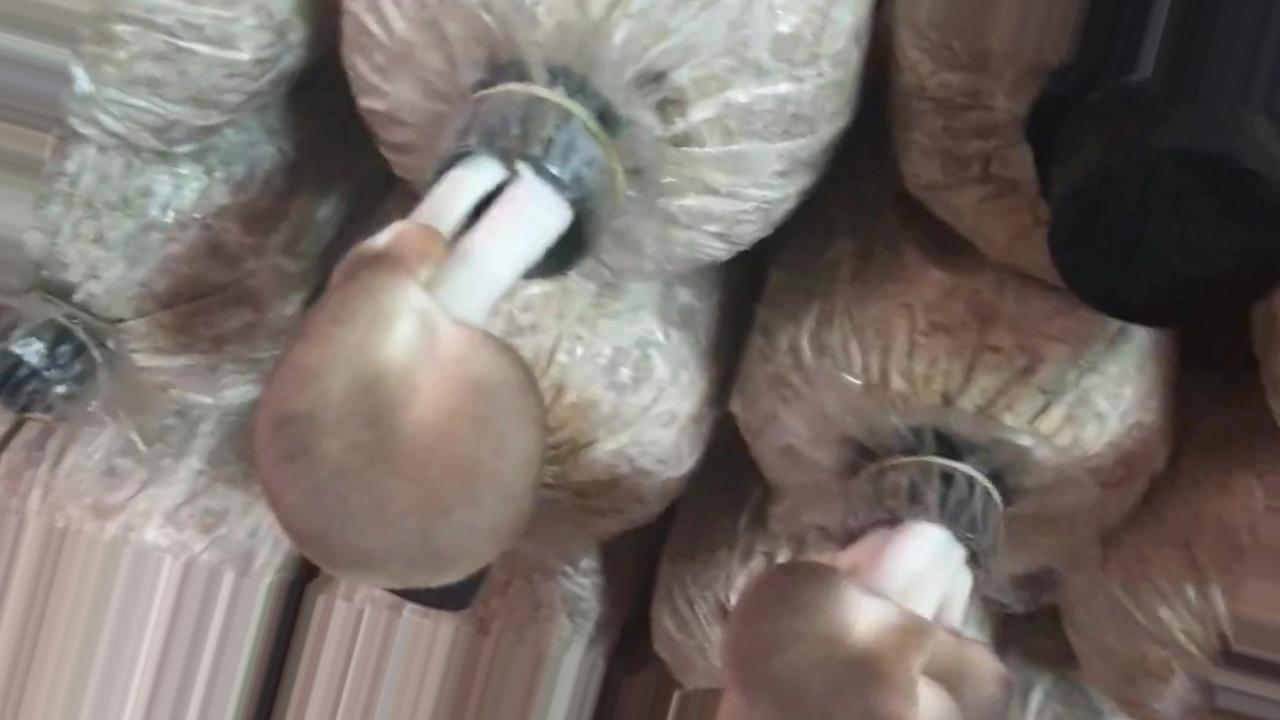nam: (255, 83, 620, 591), (722, 461, 1031, 719)
